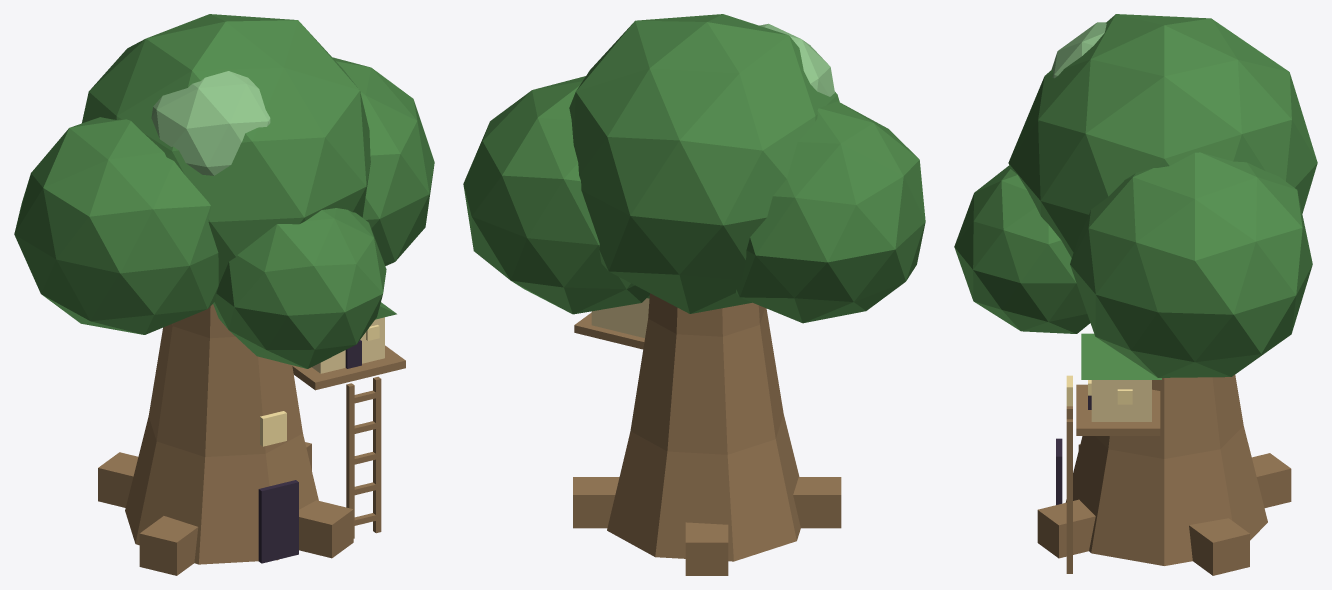
Rendered from forest-landmark-s3.glb.
The picture shows the model from 3 angles, left to right: view 1: azimuth 30°, elevation 25°; view 2: azimuth 150°, elevation 25°; view 3: azimuth 270°, elevation 25°; orthographic projection.
Parts seen in each view (by area): view 1: forest-landmark-s3; view 2: forest-landmark-s3; view 3: forest-landmark-s3.
Part boxes in pixels (x1,y1,x2,y2): forest-landmark-s3: (14,14,434,575); forest-landmark-s3: (463,14,925,575); forest-landmark-s3: (954,14,1317,575).
Size of the model in its own units: 1.55 by 1.8 by 1.19.
